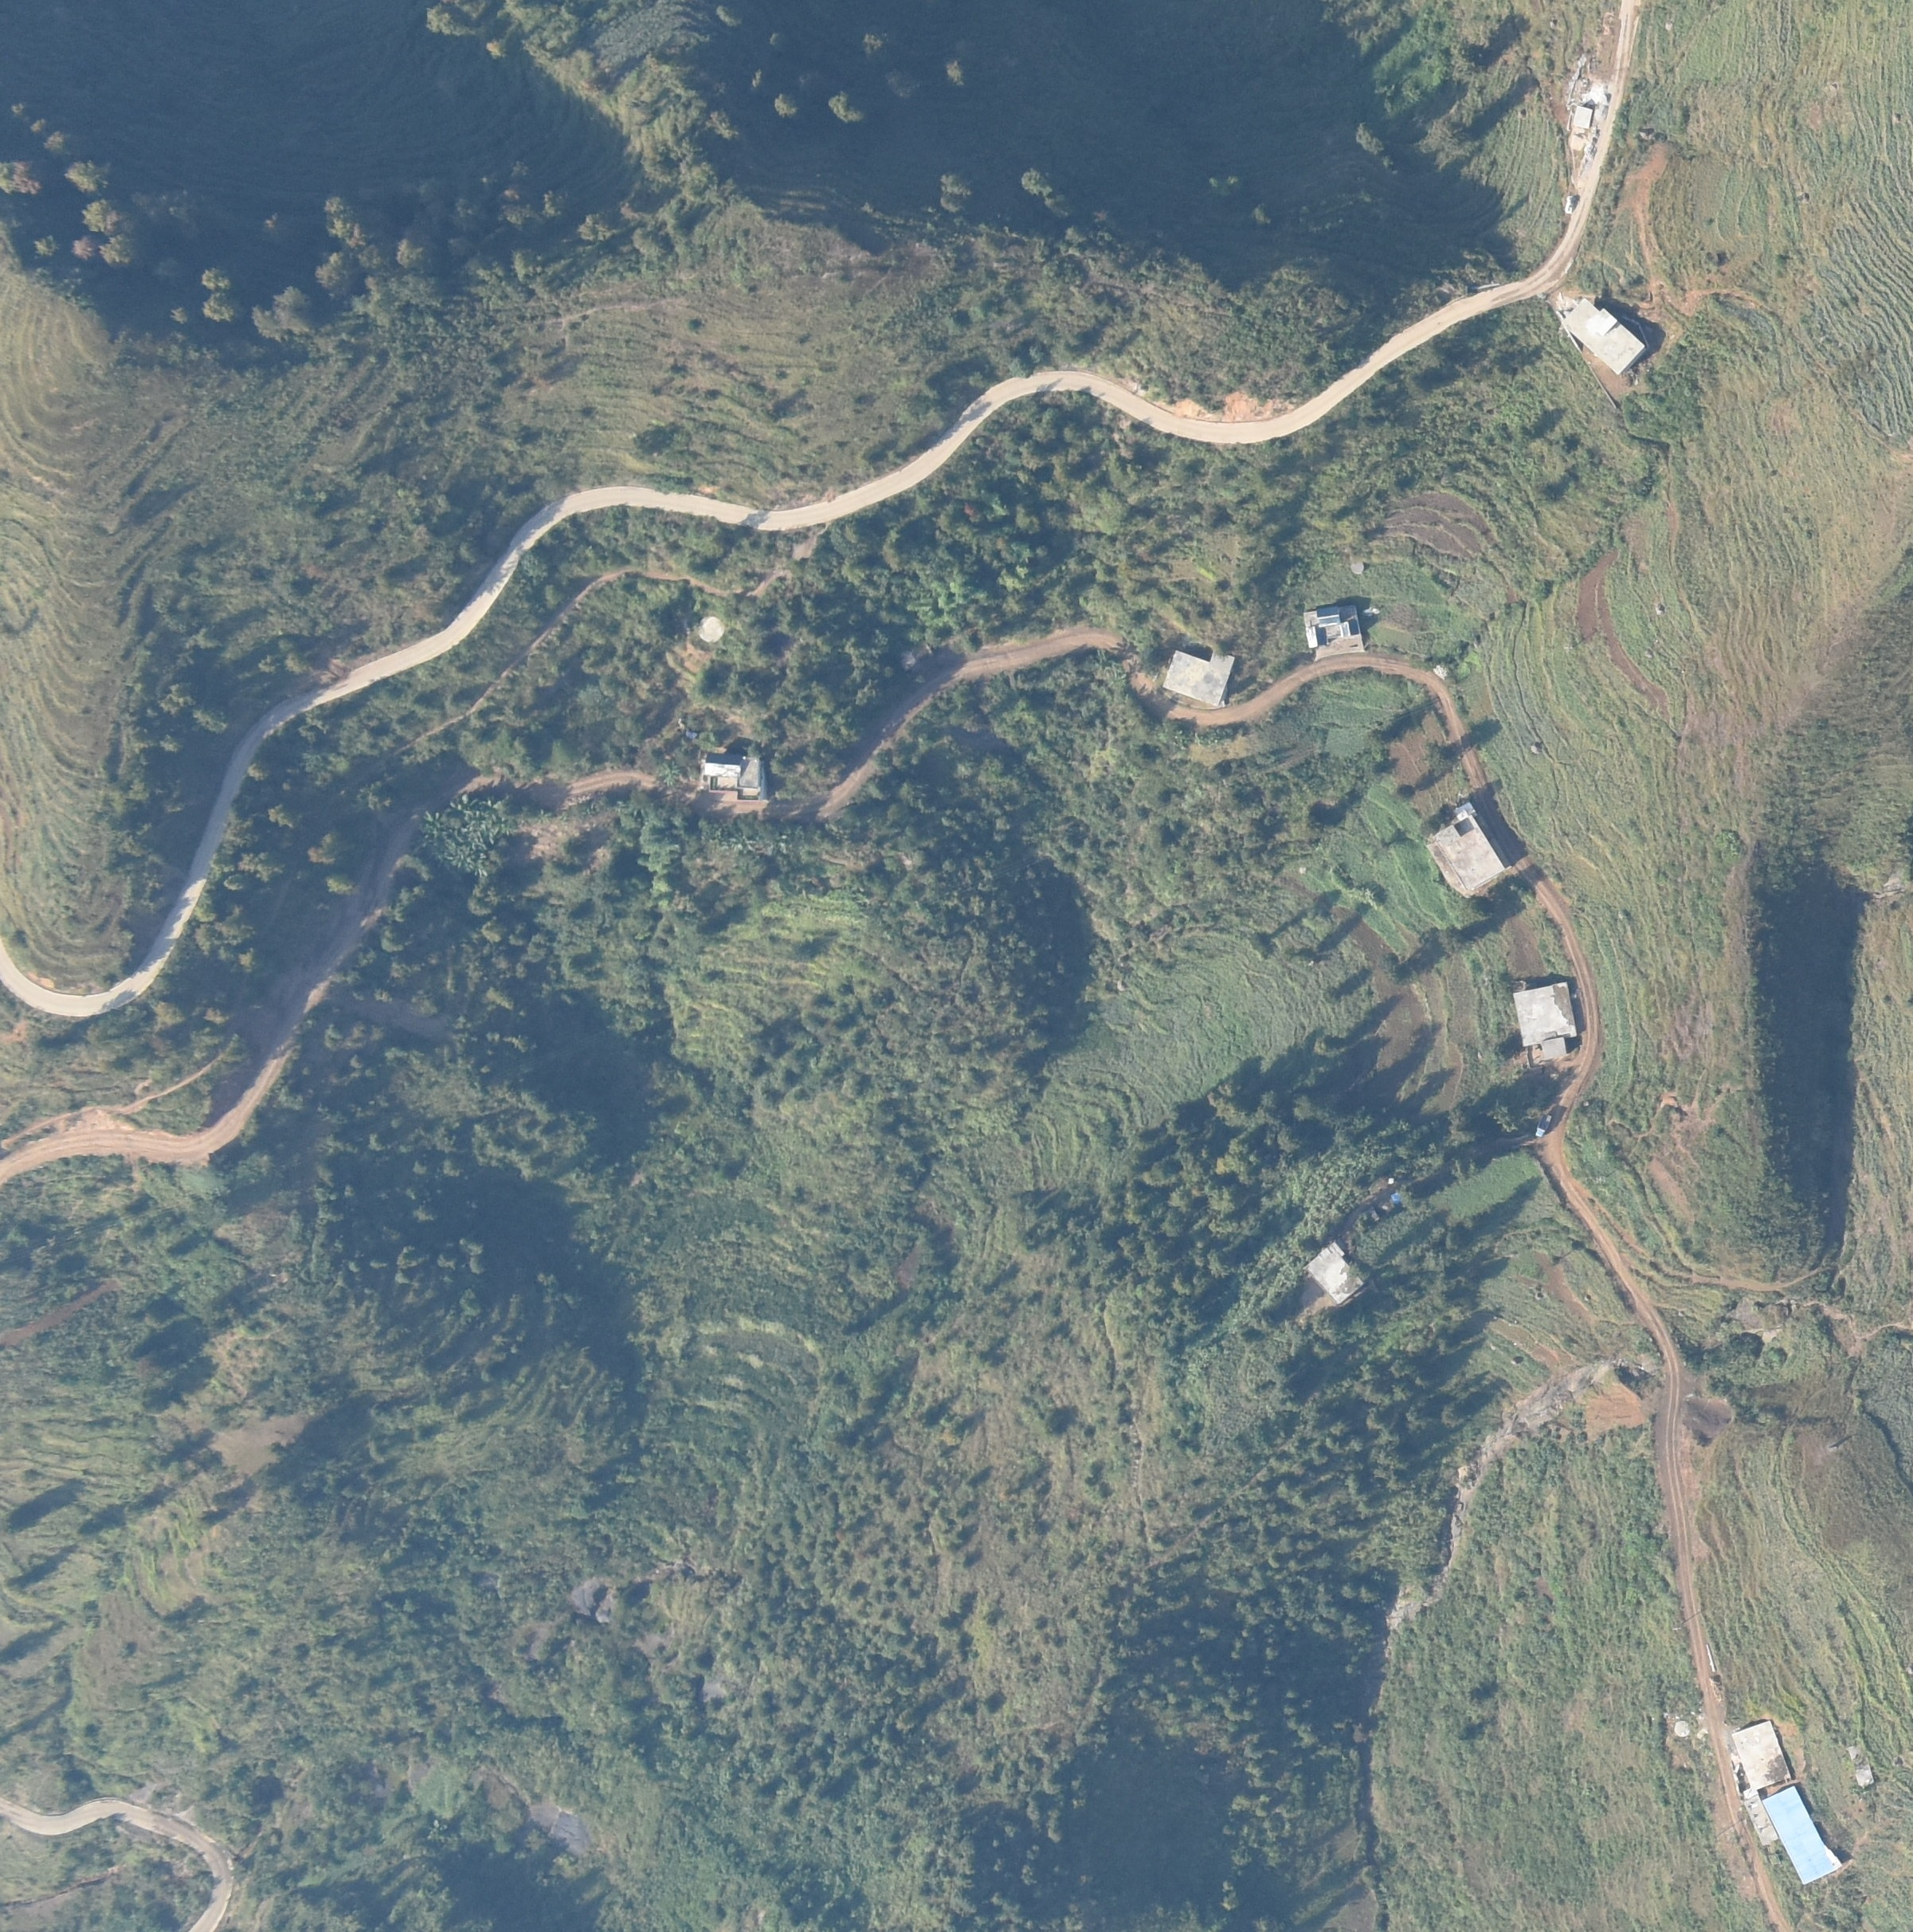building: (1563, 293, 1648, 374), (1431, 803, 1507, 889), (1514, 982, 1577, 1060), (1731, 1718, 1793, 1789), (1162, 650, 1240, 706), (1306, 1243, 1366, 1305), (699, 751, 764, 804), (1303, 605, 1367, 652), (1743, 1786, 1778, 1848), (1850, 1744, 1877, 1786), (1573, 105, 1593, 131)
prefabricated-house: (1764, 1785, 1844, 1885)
vehicle: (1535, 1114, 1552, 1137)
well: (697, 613, 725, 641), (1672, 1719, 1692, 1738), (1349, 558, 1365, 574)
